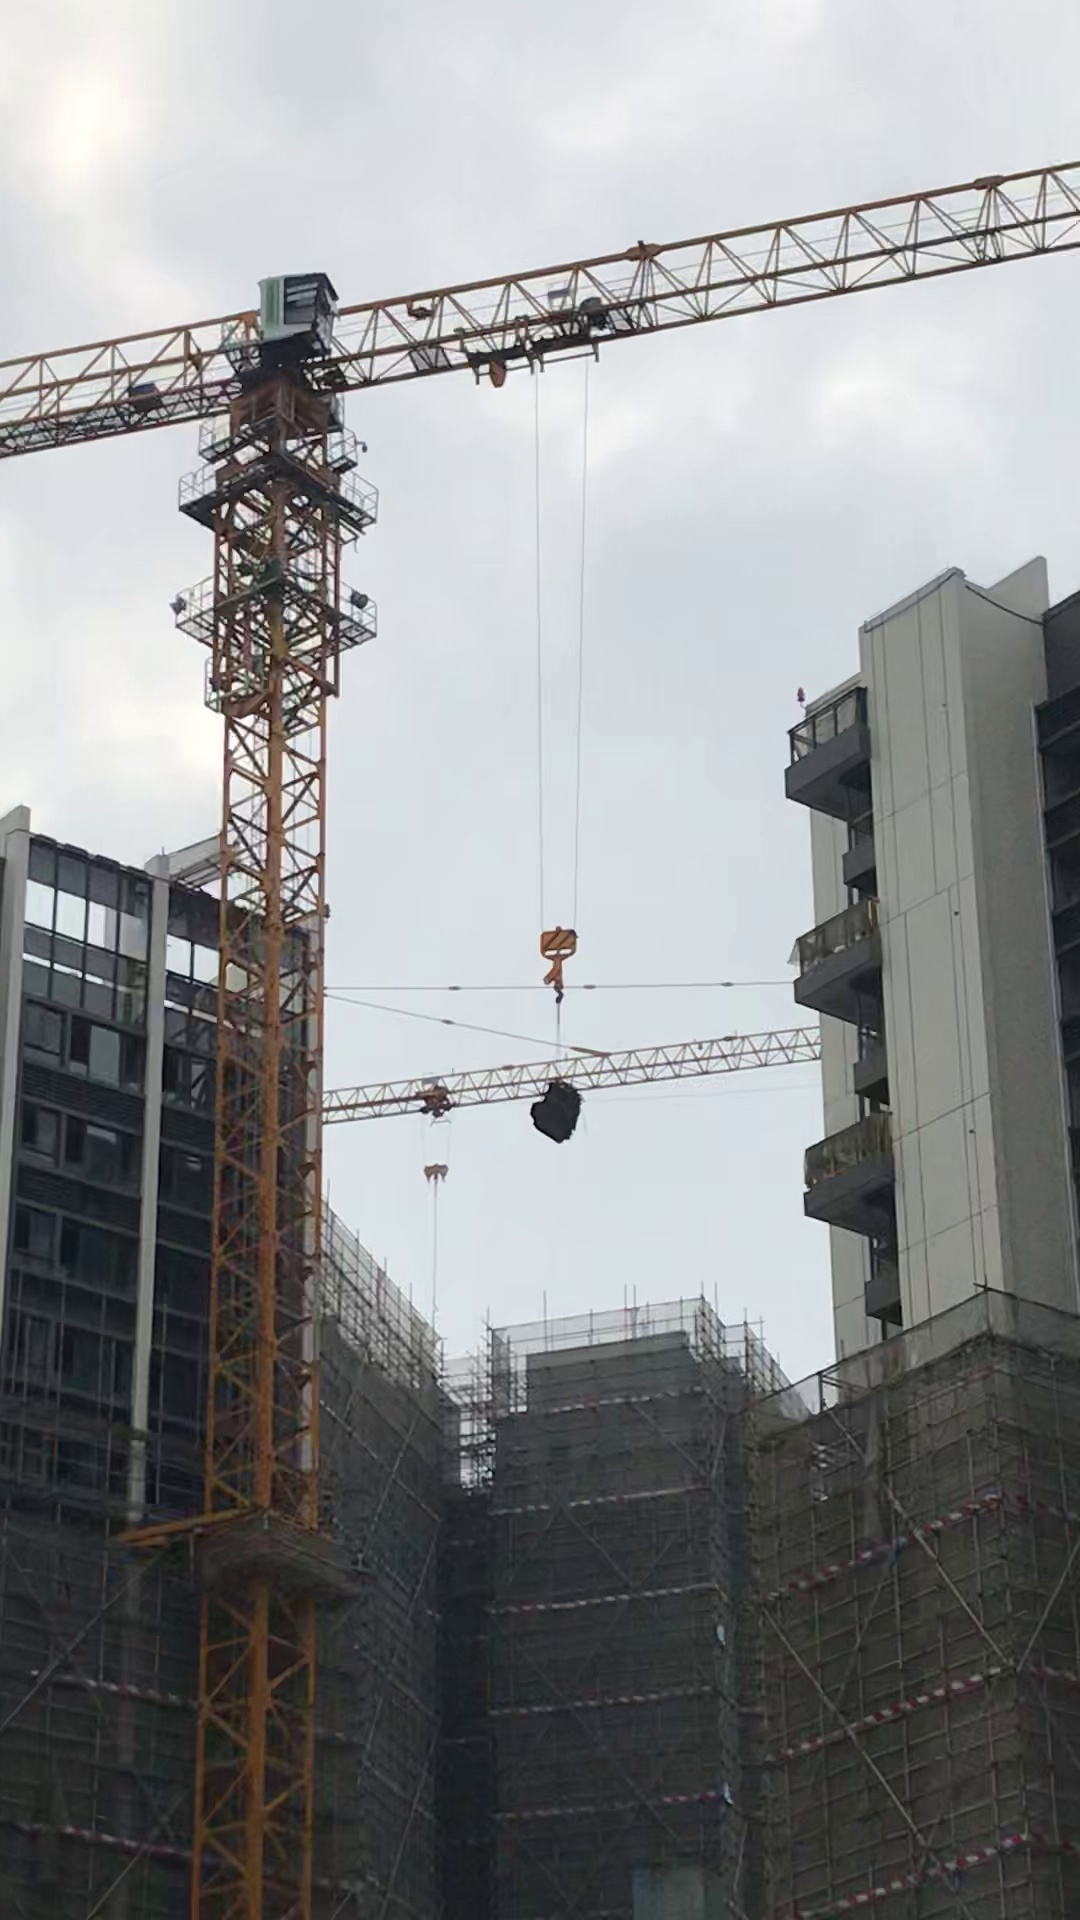hook: (530, 920, 575, 1002), (425, 1159, 451, 1183)
